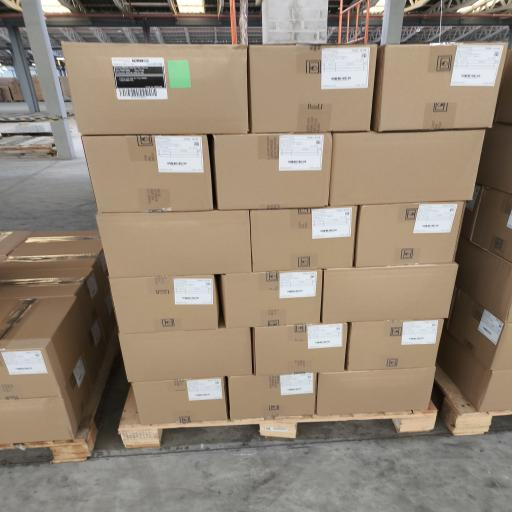pallet: (119, 387, 437, 447), (0, 333, 119, 463), (435, 365, 511, 435)
